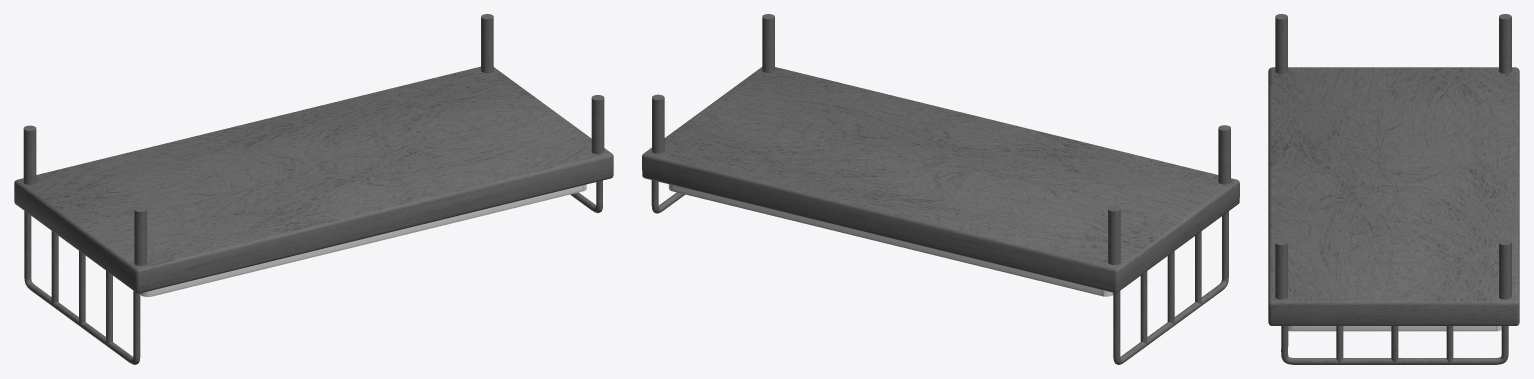
The model's file is Bed5.fbx.
3 views of the same model, side by side, from view 1: azimuth 30°, elevation 25°; view 2: azimuth 150°, elevation 25°; view 3: azimuth 270°, elevation 25° (orthographic).
Visible parts, largest first — view 1: Cube, Cylinder.003, Cylinder, Cube.001; view 2: Cube, Cylinder.003, Cube.001, Cylinder; view 3: Cube, Cylinder, Cylinder.003, Cube.001.
Boxes of the visible parts, box(x1,y1,x2,y2) form: Cube: box(14, 66, 613, 293); Cylinder.003: box(24, 180, 602, 364); Cylinder: box(23, 14, 604, 265); Cube.001: box(140, 184, 586, 296); Cube: box(642, 67, 1239, 292); Cylinder.003: box(651, 180, 1228, 364); Cube.001: box(668, 184, 1113, 296); Cylinder: box(652, 14, 1230, 264); Cube: box(1268, 67, 1519, 325); Cylinder: box(1275, 14, 1511, 299); Cylinder.003: box(1281, 326, 1508, 364); Cube.001: box(1288, 326, 1501, 331).
Size of the model in its own units: 200 by 63.24 by 90.
Materials: 2 (1 with a texture image).
